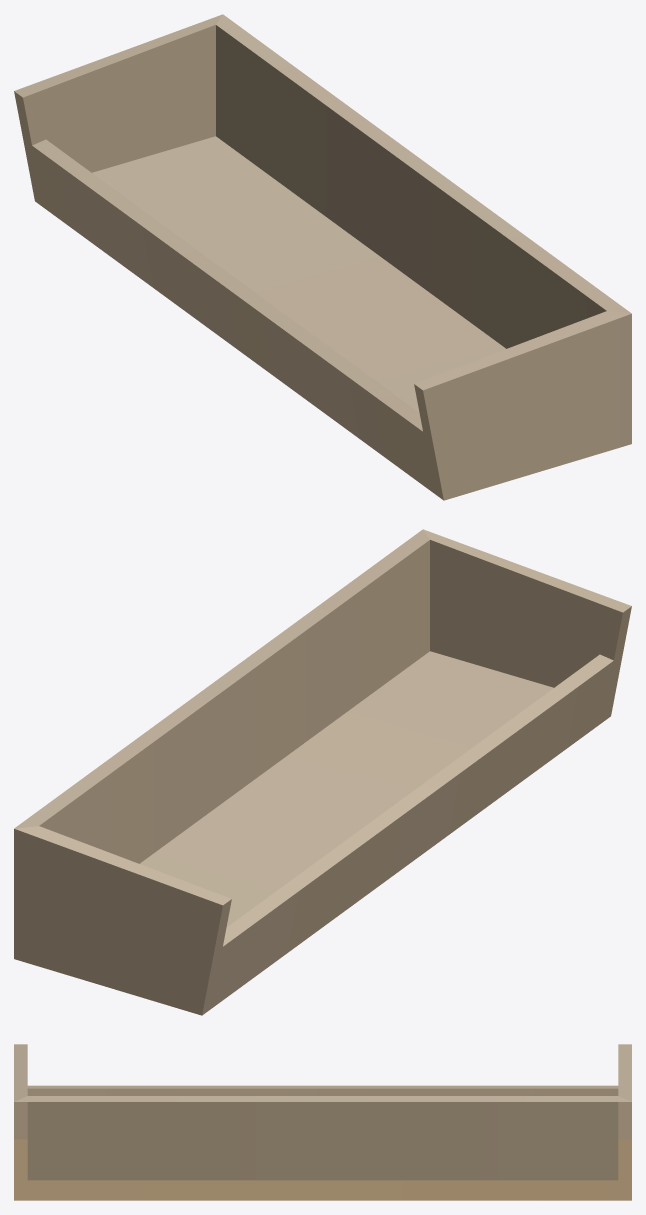
File: WallStandPlatform_Long.fbx
3 views of the same model, one above another, from view 1: azimuth 30°, elevation 25°; view 2: azimuth 150°, elevation 25°; view 3: azimuth 270°, elevation 25° (orthographic). The views are drawn at different scales.
Parts seen in each view (by area): view 1: WallStandPlatform_Long; view 2: WallStandPlatform_Long; view 3: WallStandPlatform_Long.
Part boxes in pixels (left/top/right/bottom): WallStandPlatform_Long: left=14, top=14, right=631, bottom=500; WallStandPlatform_Long: left=14, top=529, right=631, bottom=1015; WallStandPlatform_Long: left=14, top=1044, right=631, bottom=1200.
Size of the model in its own units: 35.87 by 23.15 by 122.
